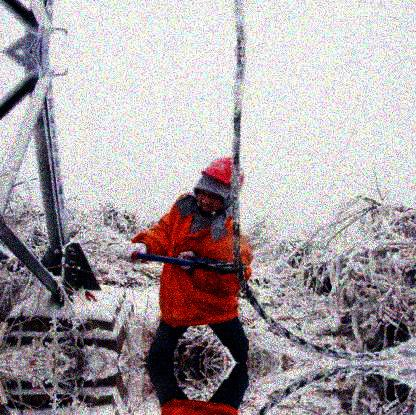helmet: (197, 158, 244, 214)
